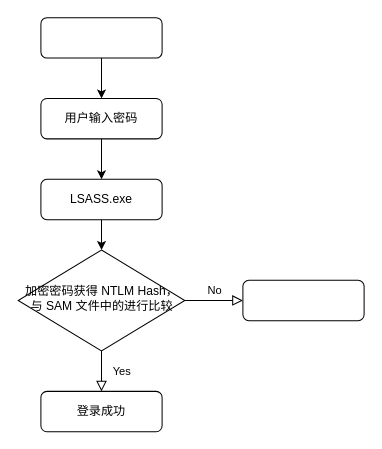
Some shapes in this 382 by 449 pixel diagram are drawn without their labels. Each missing label, with the centre of its shape:
winlogon.exe: point (101, 37)
登录失败: point (303, 300)
